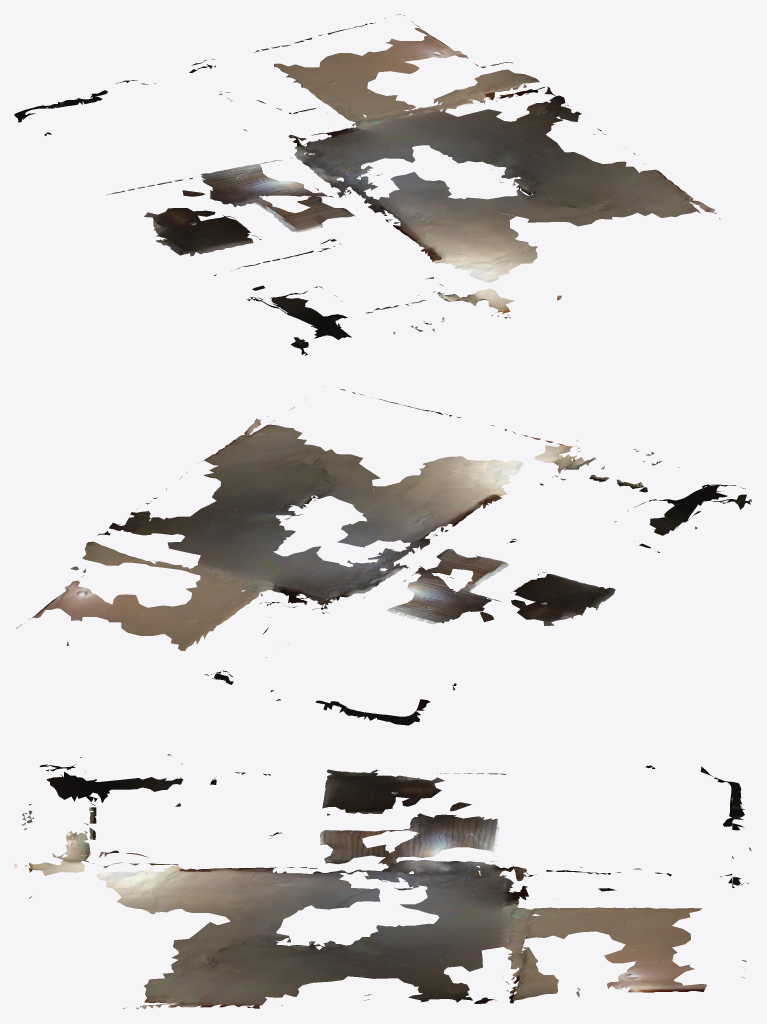
Rendered from esc_sotanos_techo_05.glb.
3 renders of one model, top to bottom at view 1: azimuth 30°, elevation 25°; view 2: azimuth 150°, elevation 25°; view 3: azimuth 270°, elevation 25°, orthographic. The views are drawn at different scales.
Parts seen in each view (by area): view 1: techo_Salon_y_porche_5_GLTF_6, techo_Salon_y_porche_5_GLTF_5, techo_Salon_y_porche_5_GLTF_11, techo_Salon_y_porche_5_GLTF_8, techo_Salon_y_porche_5_GLTF_12, techo_Salon_y_porche_5_GLTF_9, techo_Salon_y_porche_5_GLTF_3, techo_Salon_y_porche_5_GLTF_10, techo_Salon_y_porche_5_GLTF_7, techo_Salon_y_porche_5_GLTF_4, techo_Salon_y_porche_5_GLTF_2, techo_Salon_y_porche_5_GLTF_13 (+2 smaller); view 2: techo_Salon_y_porche_5_GLTF_6, techo_Salon_y_porche_5_GLTF_5, techo_Salon_y_porche_5_GLTF_11, techo_Salon_y_porche_5_GLTF_3, techo_Salon_y_porche_5_GLTF_8, techo_Salon_y_porche_5_GLTF_9, techo_Salon_y_porche_5_GLTF_12, techo_Salon_y_porche_5_GLTF_10, techo_Salon_y_porche_5_GLTF_7, techo_Salon_y_porche_5_GLTF_4, techo_Salon_y_porche_5_GLTF_2, techo_Salon_y_porche_5_GLTF_13 (+2 smaller); view 3: techo_Salon_y_porche_5_GLTF_6, techo_Salon_y_porche_5_GLTF_5, techo_Salon_y_porche_5_GLTF_12, techo_Salon_y_porche_5_GLTF_11, techo_Salon_y_porche_5_GLTF_8, techo_Salon_y_porche_5_GLTF_3, techo_Salon_y_porche_5_GLTF_9, techo_Salon_y_porche_5_GLTF_10, techo_Salon_y_porche_5_GLTF_7, techo_Salon_y_porche_5_GLTF_4, techo_Salon_y_porche_5_GLTF_2, techo_Salon_y_porche_5_GLTF_13 (+2 smaller).
Boxes of the visible parts, left/top/right/bottom form: techo_Salon_y_porche_5_GLTF_6: left=60, top=50, right=536, bottom=334; techo_Salon_y_porche_5_GLTF_5: left=274, top=57, right=635, bottom=339; techo_Salon_y_porche_5_GLTF_11: left=46, top=81, right=651, bottom=316; techo_Salon_y_porche_5_GLTF_8: left=202, top=18, right=625, bottom=282; techo_Salon_y_porche_5_GLTF_12: left=155, top=64, right=720, bottom=316; techo_Salon_y_porche_5_GLTF_9: left=291, top=38, right=686, bottom=318; techo_Salon_y_porche_5_GLTF_3: left=14, top=28, right=571, bottom=331; techo_Salon_y_porche_5_GLTF_10: left=118, top=53, right=663, bottom=355; techo_Salon_y_porche_5_GLTF_7: left=132, top=80, right=645, bottom=329; techo_Salon_y_porche_5_GLTF_4: left=319, top=14, right=518, bottom=288; techo_Salon_y_porche_5_GLTF_2: left=144, top=59, right=492, bottom=324; techo_Salon_y_porche_5_GLTF_13: left=44, top=133, right=561, bottom=305; techo_Salon_y_porche_5_GLTF_6: left=97, top=429, right=679, bottom=714; techo_Salon_y_porche_5_GLTF_5: left=82, top=399, right=727, bottom=650; techo_Salon_y_porche_5_GLTF_11: left=97, top=389, right=736, bottom=685; techo_Salon_y_porche_5_GLTF_3: left=32, top=453, right=661, bottom=725; techo_Salon_y_porche_5_GLTF_8: left=82, top=456, right=557, bottom=619; techo_Salon_y_porche_5_GLTF_9: left=57, top=405, right=609, bottom=621; techo_Salon_y_porche_5_GLTF_12: left=163, top=416, right=660, bottom=684; techo_Salon_y_porche_5_GLTF_10: left=121, top=444, right=751, bottom=635; techo_Salon_y_porche_5_GLTF_7: left=202, top=460, right=658, bottom=700; techo_Salon_y_porche_5_GLTF_4: left=16, top=475, right=616, bottom=628; techo_Salon_y_porche_5_GLTF_2: left=153, top=449, right=745, bottom=679; techo_Salon_y_porche_5_GLTF_13: left=234, top=431, right=697, bottom=690; techo_Salon_y_porche_5_GLTF_6: left=29, top=772, right=744, bottom=968; techo_Salon_y_porche_5_GLTF_5: left=46, top=772, right=701, bottom=1002; techo_Salon_y_porche_5_GLTF_12: left=14, top=773, right=740, bottom=1009; techo_Salon_y_porche_5_GLTF_11: left=83, top=763, right=652, bottom=1003; techo_Salon_y_porche_5_GLTF_8: left=91, top=799, right=744, bottom=1003; techo_Salon_y_porche_5_GLTF_3: left=24, top=766, right=744, bottom=1000; techo_Salon_y_porche_5_GLTF_9: left=89, top=827, right=694, bottom=1008; techo_Salon_y_porche_5_GLTF_10: left=22, top=757, right=690, bottom=994; techo_Salon_y_porche_5_GLTF_7: left=27, top=798, right=751, bottom=1005; techo_Salon_y_porche_5_GLTF_4: left=175, top=803, right=413, bottom=921; techo_Salon_y_porche_5_GLTF_2: left=21, top=764, right=748, bottom=902; techo_Salon_y_porche_5_GLTF_13: left=29, top=754, right=655, bottom=963.
Size of the model in its own units: 8.28 by 0.3296 by 10.69.
Materials: 14 (14 with a texture image).
